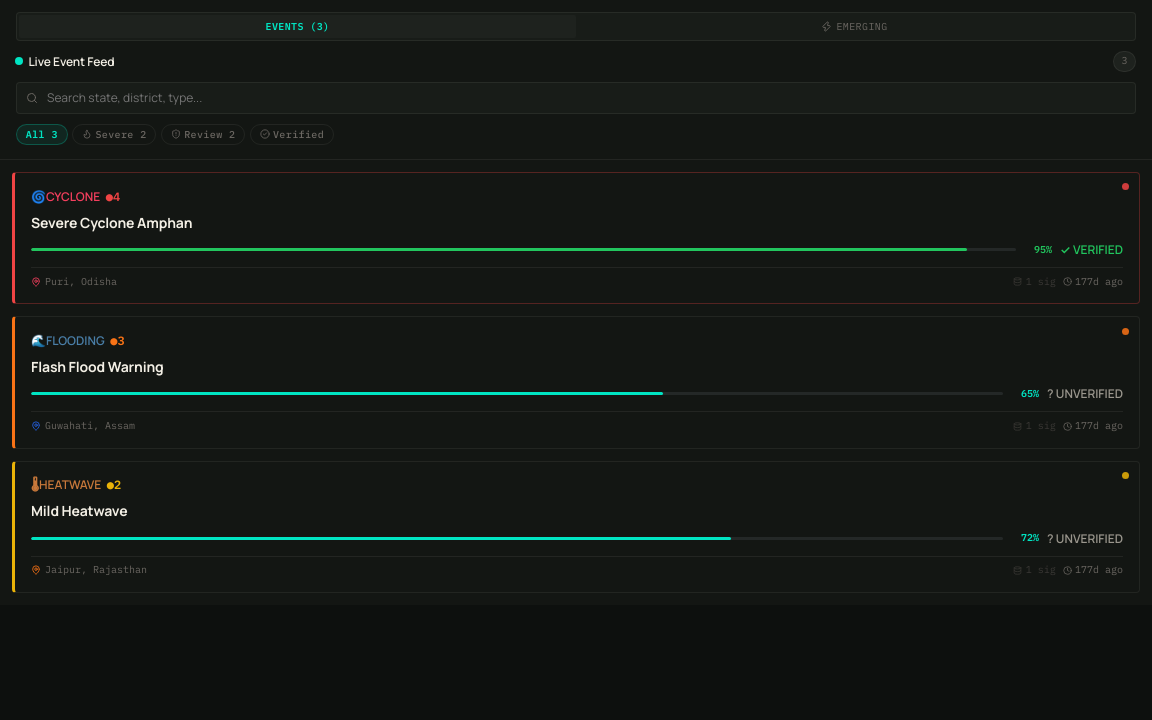
EventFeed Component › filters events by search query across title, category, or state
In the field with placeholder "Search state, district, type...": (576, 98) [16,82,1136,114], type "Assam"
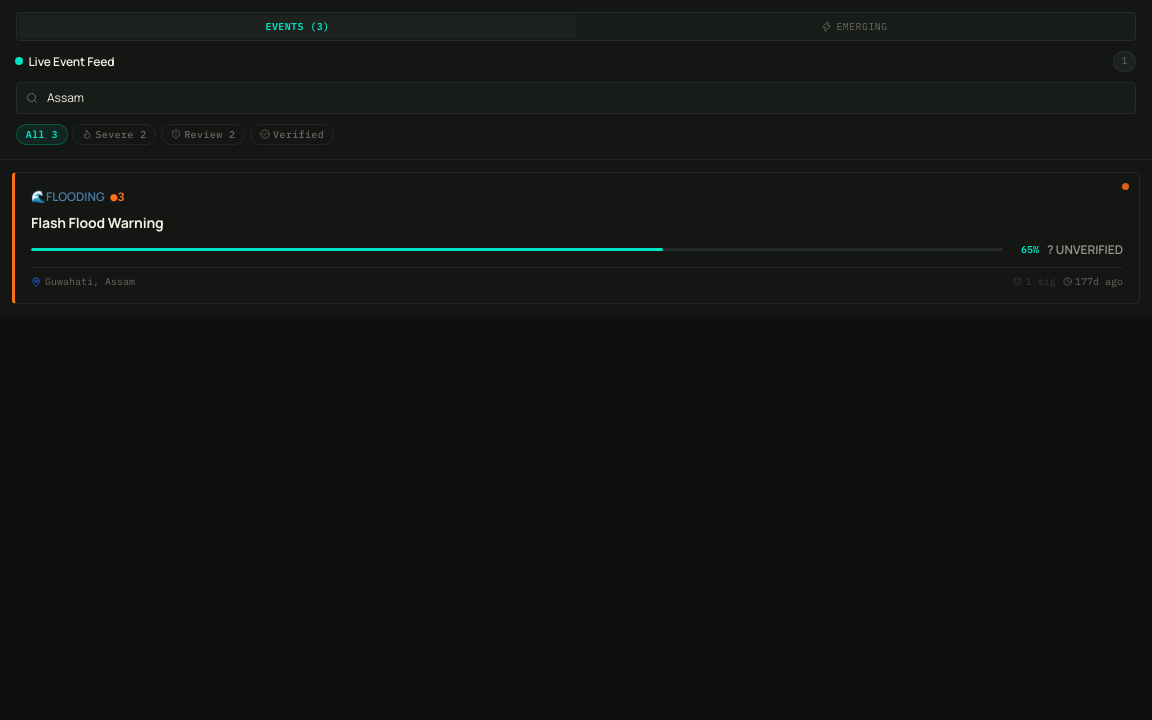
expect the text "Flash Flood Warning" is shown: met, box [31,213,164,232]
expect the button "Severe Cyclone Amphan" is gone: met
expect the button "Mild Heatwave" is gone: met
